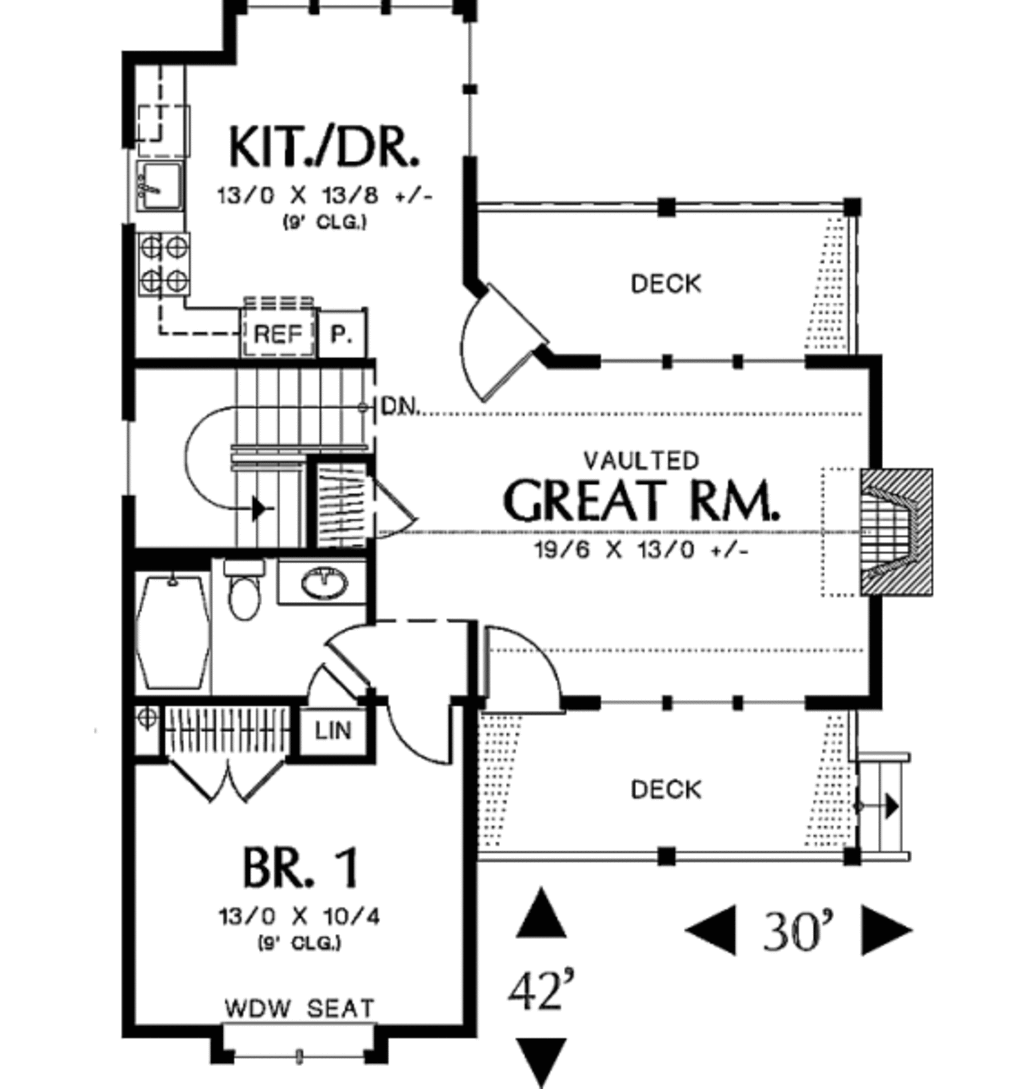door: (458, 272, 552, 404), (471, 619, 569, 717), (161, 748, 285, 814), (305, 604, 385, 700), (381, 690, 469, 773), (280, 655, 351, 709)
large_sink: (212, 551, 271, 623)
sink: (110, 138, 202, 226)
small_sink: (268, 545, 378, 607)
stairs: (212, 361, 369, 548), (823, 750, 915, 856)
tub: (130, 570, 215, 697)
window: (451, 28, 483, 156), (115, 407, 142, 499)
